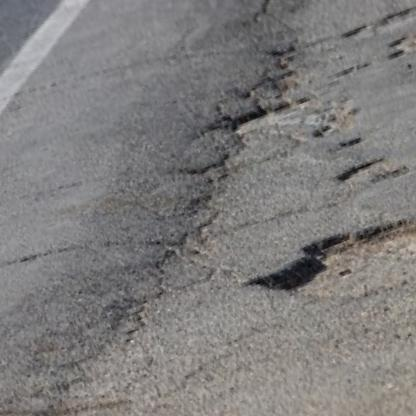pothole: (235, 167, 416, 352), (222, 76, 356, 169), (336, 145, 415, 201), (377, 0, 416, 36), (385, 24, 416, 64), (343, 23, 372, 47), (339, 133, 365, 152)
